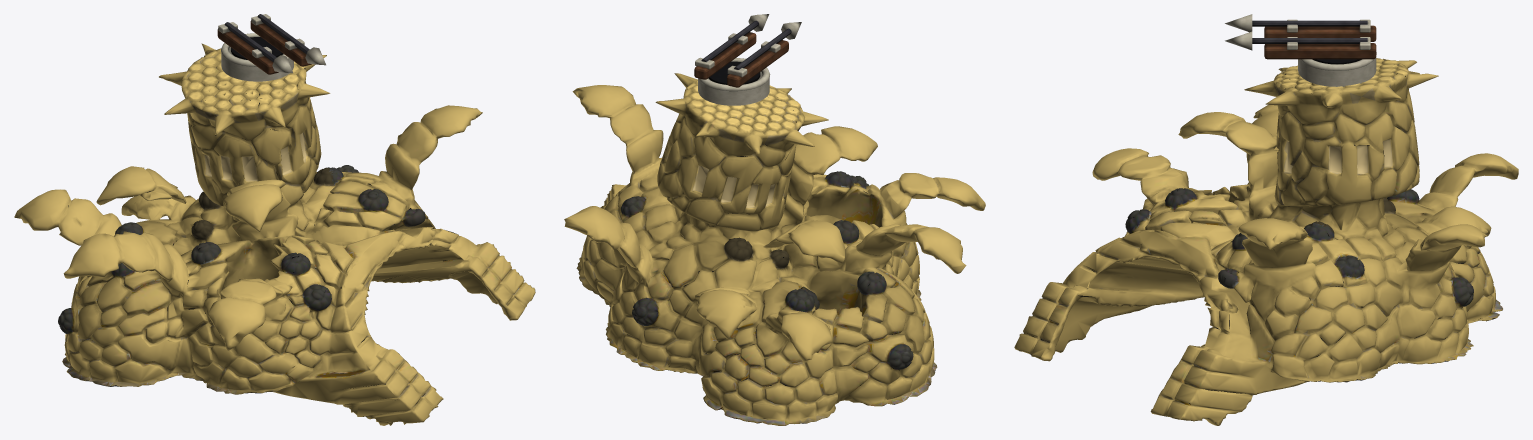
File: colony_scorpion.glb
3 views of the same model, side by side, from view 1: azimuth 30°, elevation 25°; view 2: azimuth 150°, elevation 25°; view 3: azimuth 270°, elevation 25° (orthographic). The views are drawn at different scales.
Visible parts, largest first — view 1: ColonyBody, Turret_1_Barrels, Turret_1; view 2: ColonyBody, Turret_1_Barrels, Turret_1; view 3: ColonyBody, Turret_1_Barrels, Turret_1.
Part boxes in pixels (x1,y1,x2,y2): ColonyBody: [14, 43, 535, 425]; Turret_1_Barrels: [217, 14, 325, 74]; Turret_1: [221, 33, 293, 81]; ColonyBody: [564, 73, 985, 425]; Turret_1_Barrels: [694, 14, 801, 87]; Turret_1: [698, 58, 770, 105]; ColonyBody: [1014, 58, 1518, 425]; Turret_1_Barrels: [1225, 14, 1376, 59]; Turret_1: [1298, 52, 1376, 86].
Bounding box in the file's own units: 5.62 × 3.91 × 5.41.
8 materials, 8 textured.
